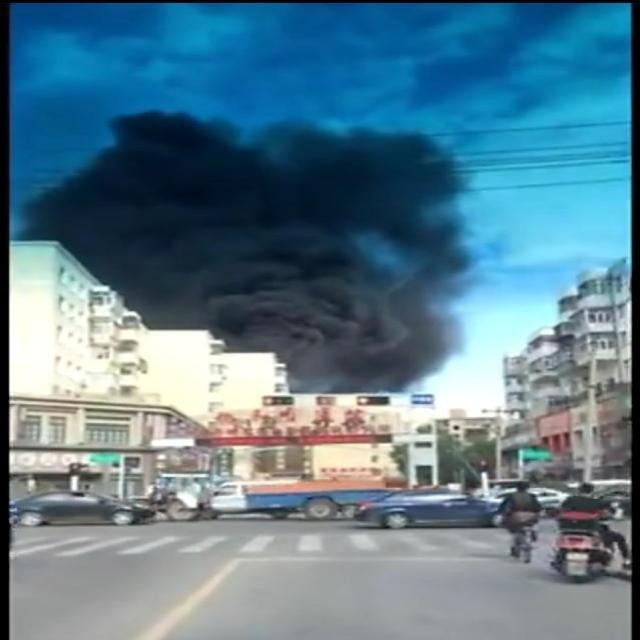Smoke: (9, 110, 482, 394)
